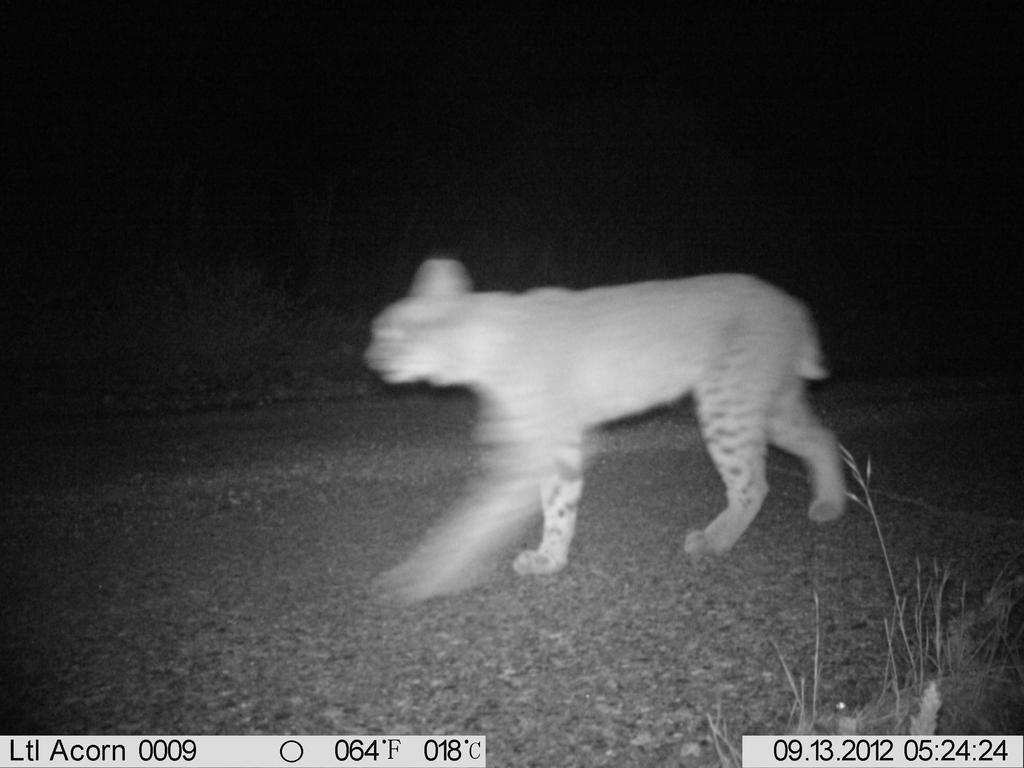bobcat: (357, 254, 855, 609)
